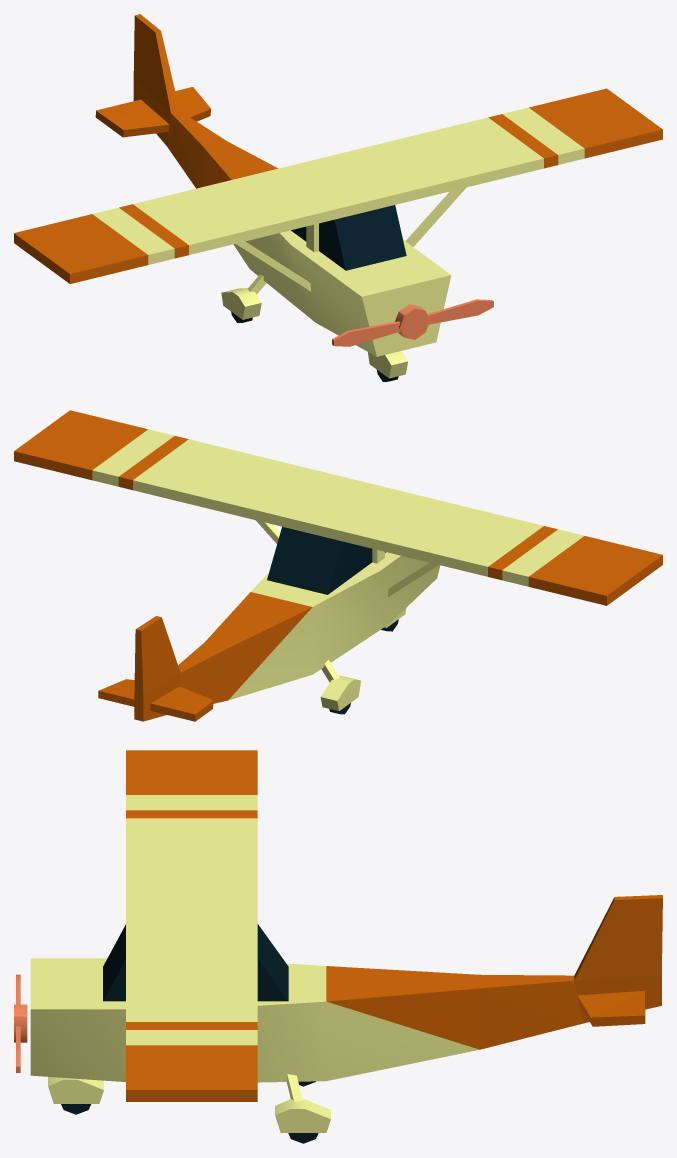
Rendered from Stingray.fbx.
3 views of the same model, one above another, from view 1: azimuth 30°, elevation 25°; view 2: azimuth 150°, elevation 25°; view 3: azimuth 270°, elevation 25° (orthographic). The views are drawn at different scales.
Parts seen in each view (by area): view 1: Stingray, canh_quat; view 2: Stingray; view 3: Stingray, canh_quat.
Boxes of the visible parts, x1,y1,x2,y2 form: Stingray: (14, 14, 662, 381); canh_quat: (332, 299, 493, 346); Stingray: (14, 410, 662, 721); Stingray: (30, 750, 662, 1143); canh_quat: (14, 974, 27, 1072).
Size of the model in its own units: 746 by 220 by 602.
1 material, 1 textured.
